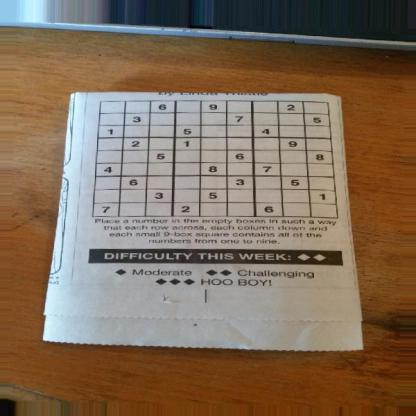sudoku: (89, 97, 343, 221)
